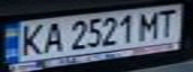1: (115, 11, 139, 43)
2: (66, 17, 90, 52), (100, 14, 124, 47)
5: (84, 16, 106, 50)
A: (39, 19, 66, 54)
K: (15, 21, 48, 57)
M: (136, 8, 166, 41)
T: (151, 7, 184, 38)
